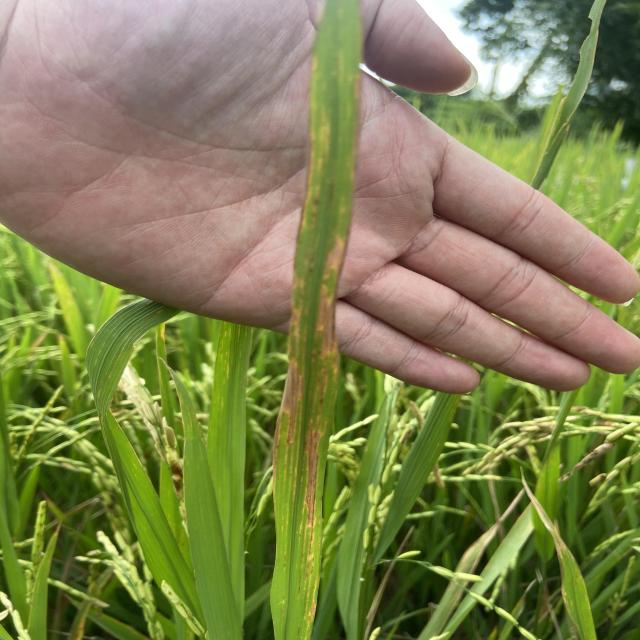Dom soc vi khuan: (298, 415, 325, 599), (306, 580, 317, 630)
